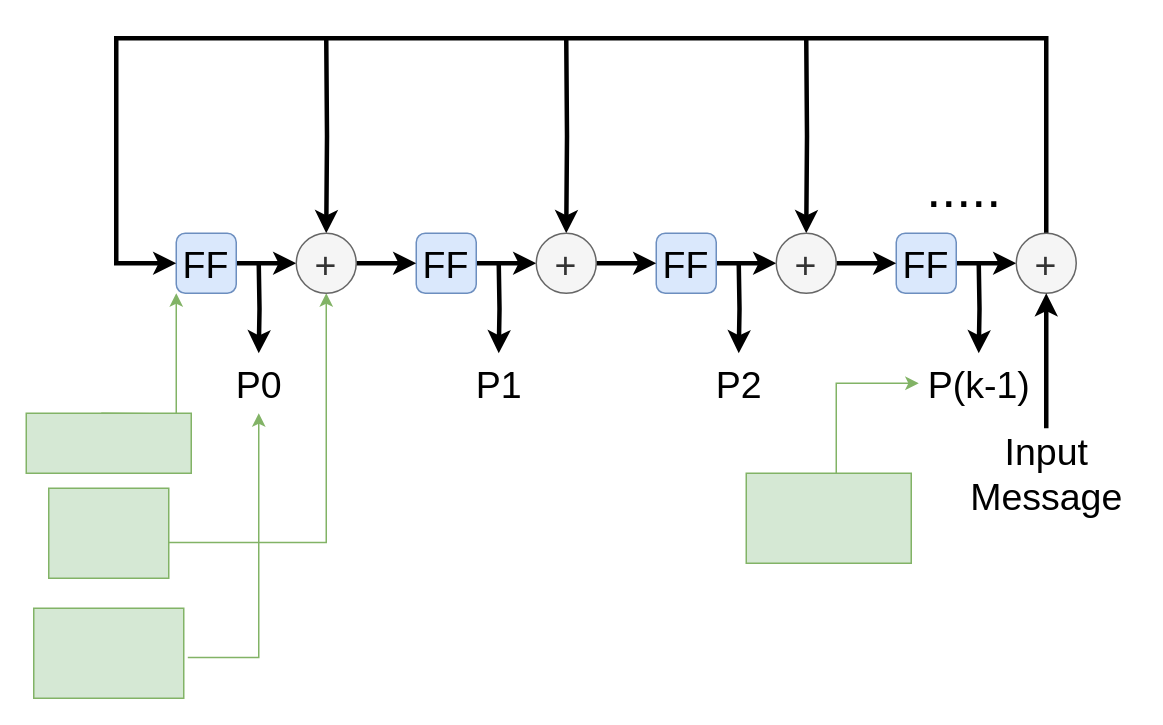
The diagram is 1163 pixels wide and 725 high, and some of its shapes have lost their labels. The box of each missing label's shape, as (x1, y1, x2, y2) in pixels:
Adder XOR: (47, 487, 169, 578)
Flip-Flop: (25, 412, 191, 473)
LSB of parity: (32, 607, 184, 698)
MSB of Parity: (745, 472, 911, 563)
